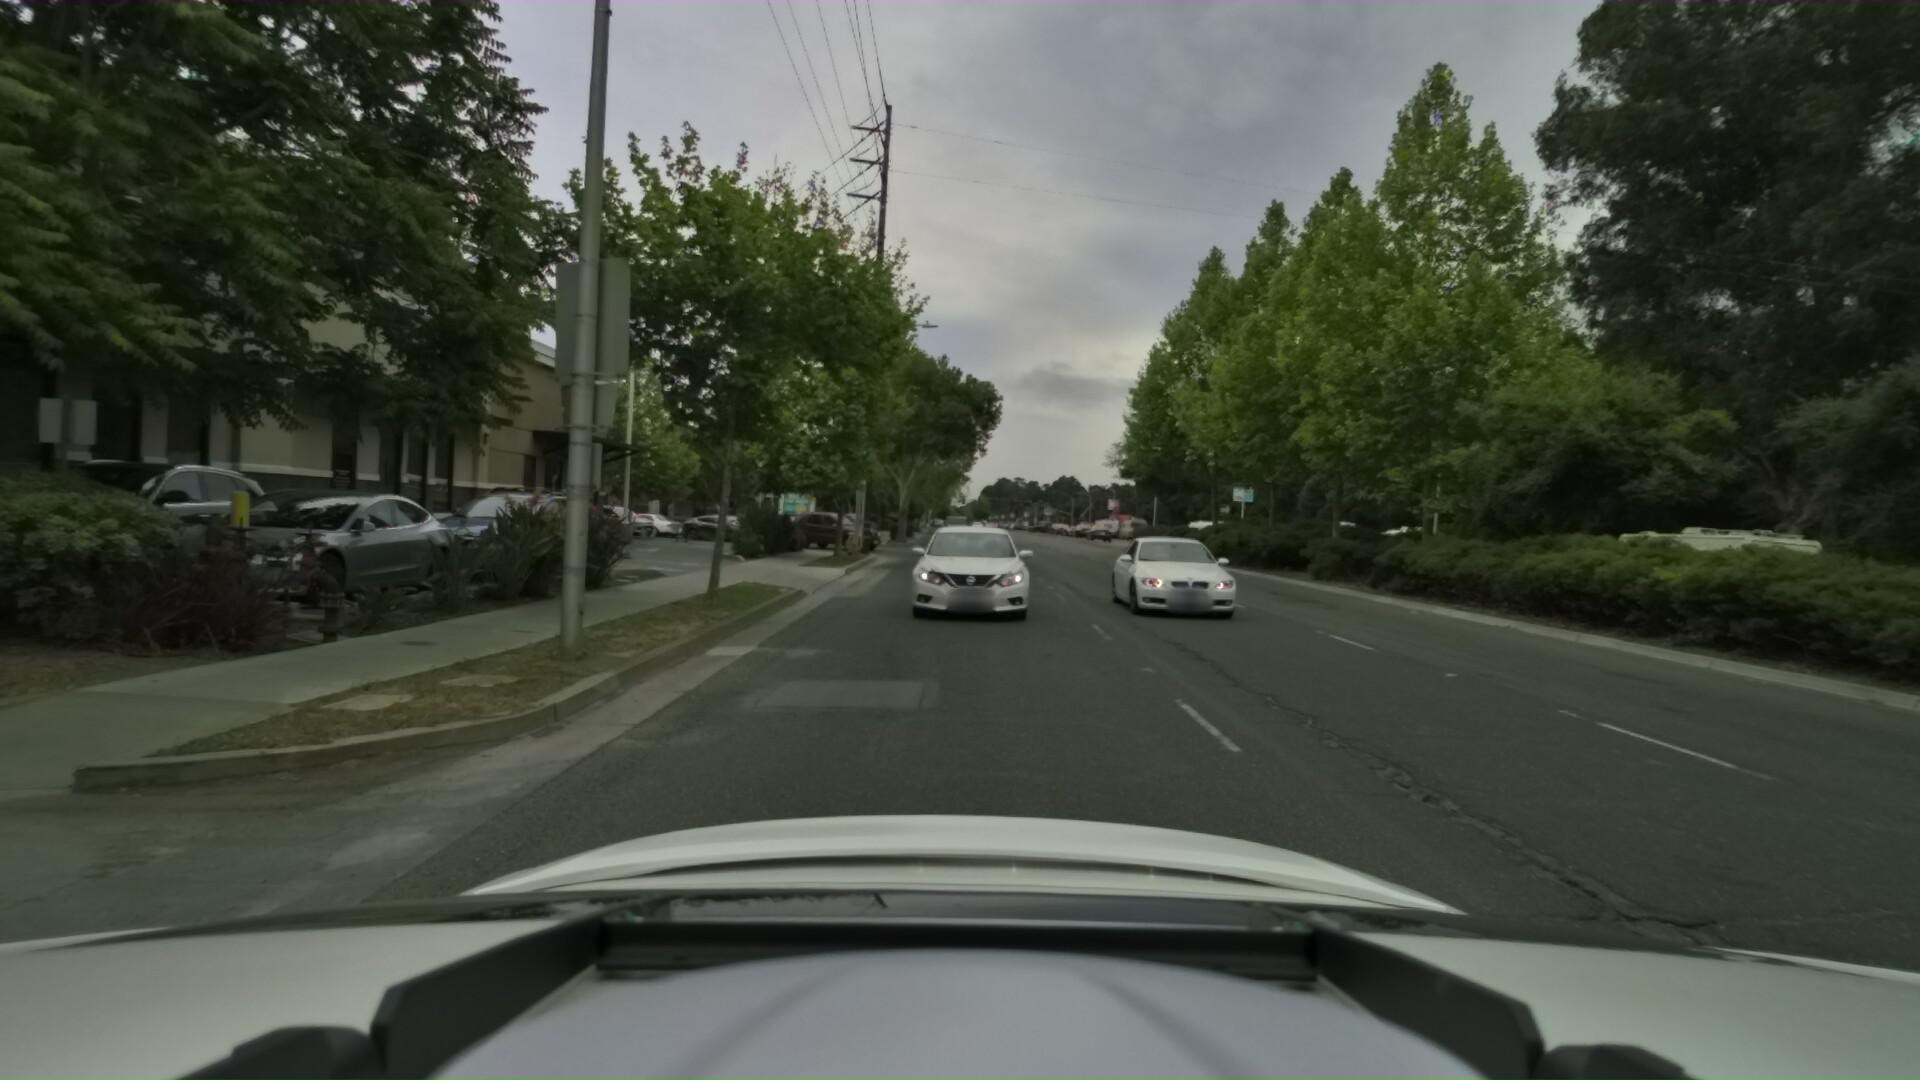car: (161, 467, 498, 618), (426, 469, 621, 582), (899, 506, 1030, 618), (1091, 517, 1222, 604), (781, 498, 889, 546), (680, 502, 789, 541), (576, 495, 671, 533), (613, 502, 695, 534), (934, 500, 967, 527)
other_vehicle: (1589, 516, 1822, 617), (1352, 516, 1445, 568)
